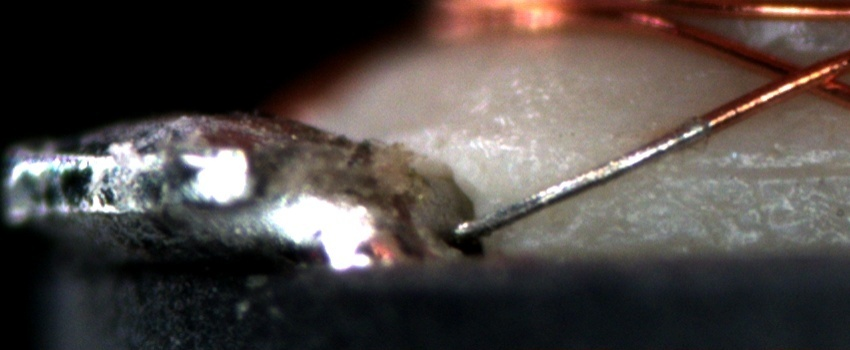CL: (750, 49, 845, 104)
DL: (671, 138, 850, 201)
TS: (449, 120, 709, 239)
